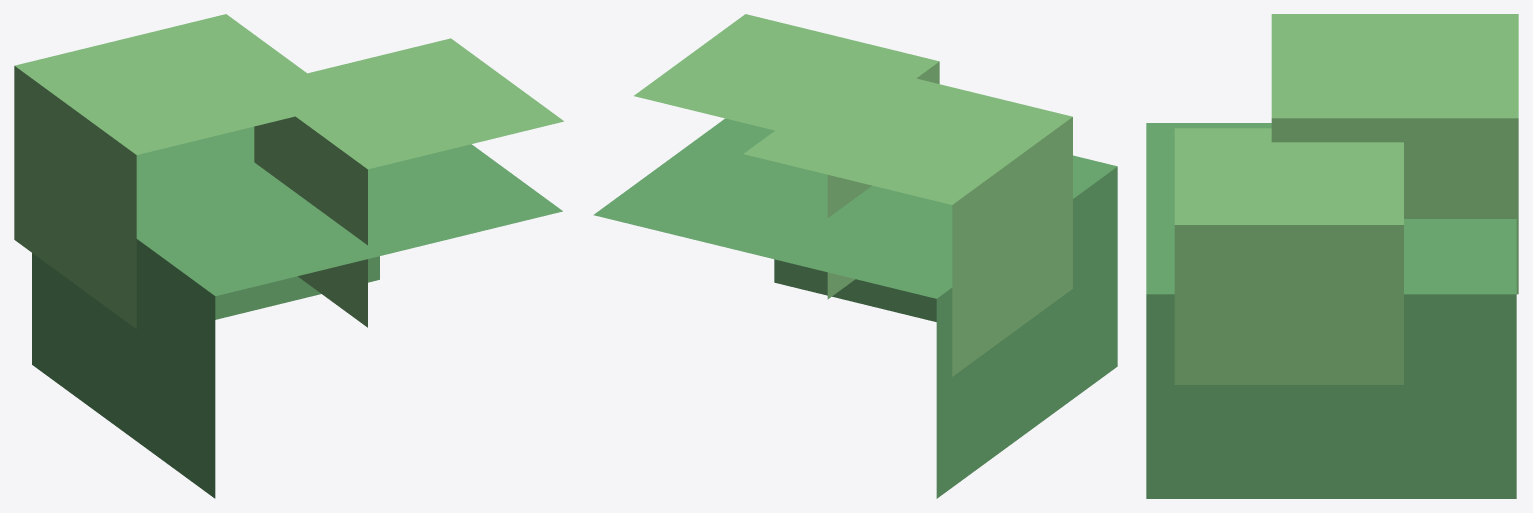
Rendered from shrub.glb.
3 views of the same model, side by side, from view 1: azimuth 30°, elevation 25°; view 2: azimuth 150°, elevation 25°; view 3: azimuth 270°, elevation 25° (orthographic). The views are drawn at different scales.
Size of the model in its own units: 1.25 by 0.955 by 1.05.
